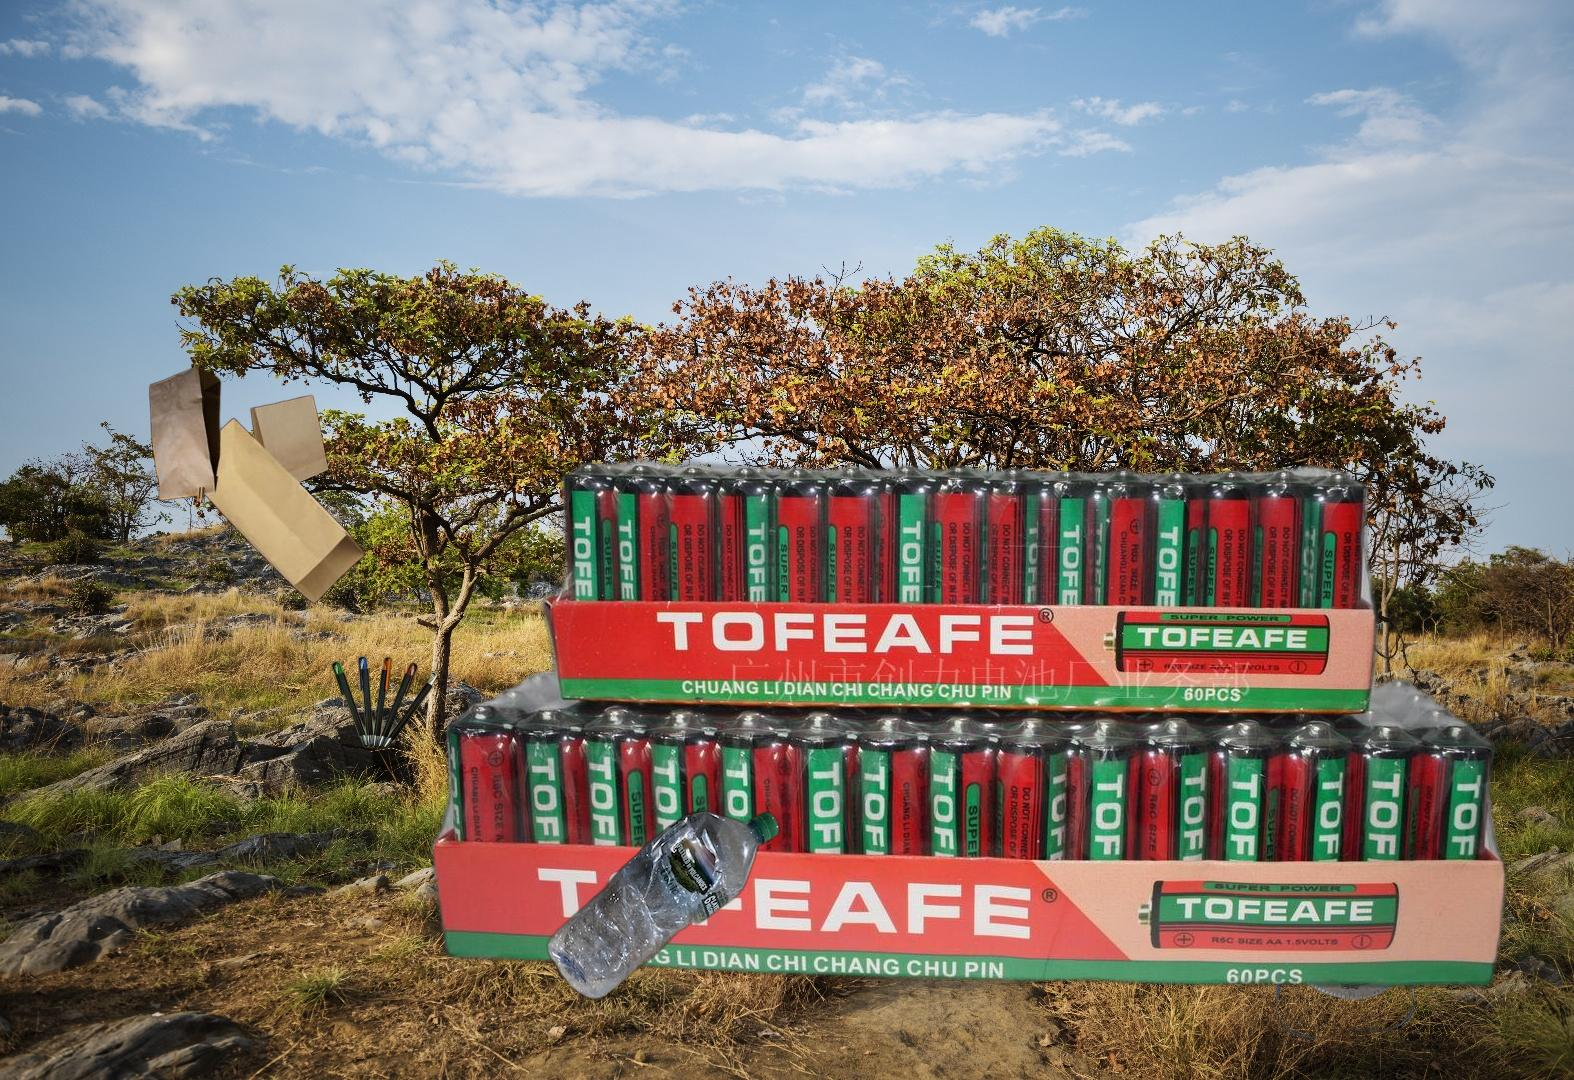battery: (422, 451, 1517, 995)
paper-bag: (148, 364, 368, 605)
penholder: (329, 653, 439, 755)
plastic-bottles: (544, 807, 783, 1002)
trash: (1273, 809, 1423, 1042)
